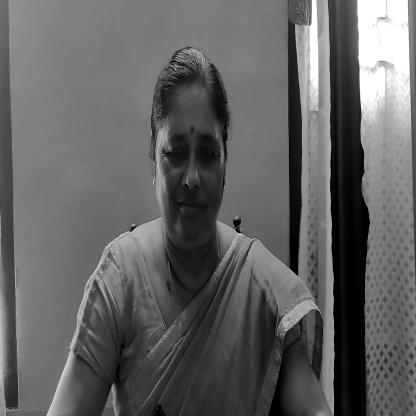Normal: (155, 43, 231, 256)
